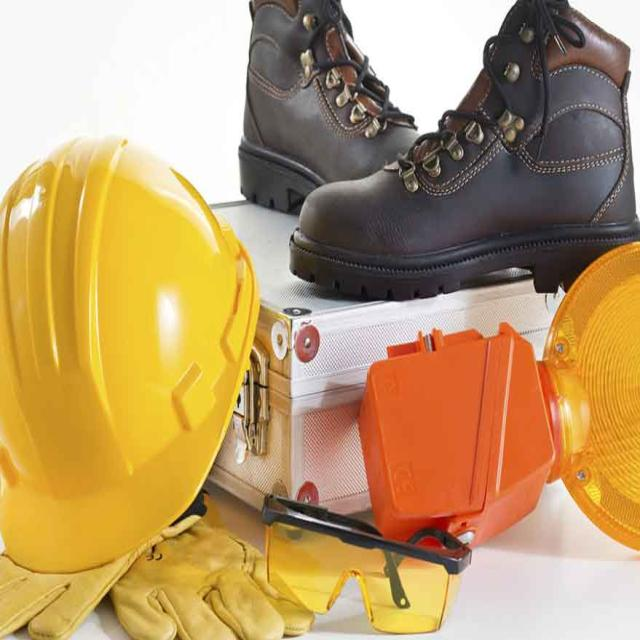shoes: (284, 26, 634, 314), (238, 0, 419, 215)
